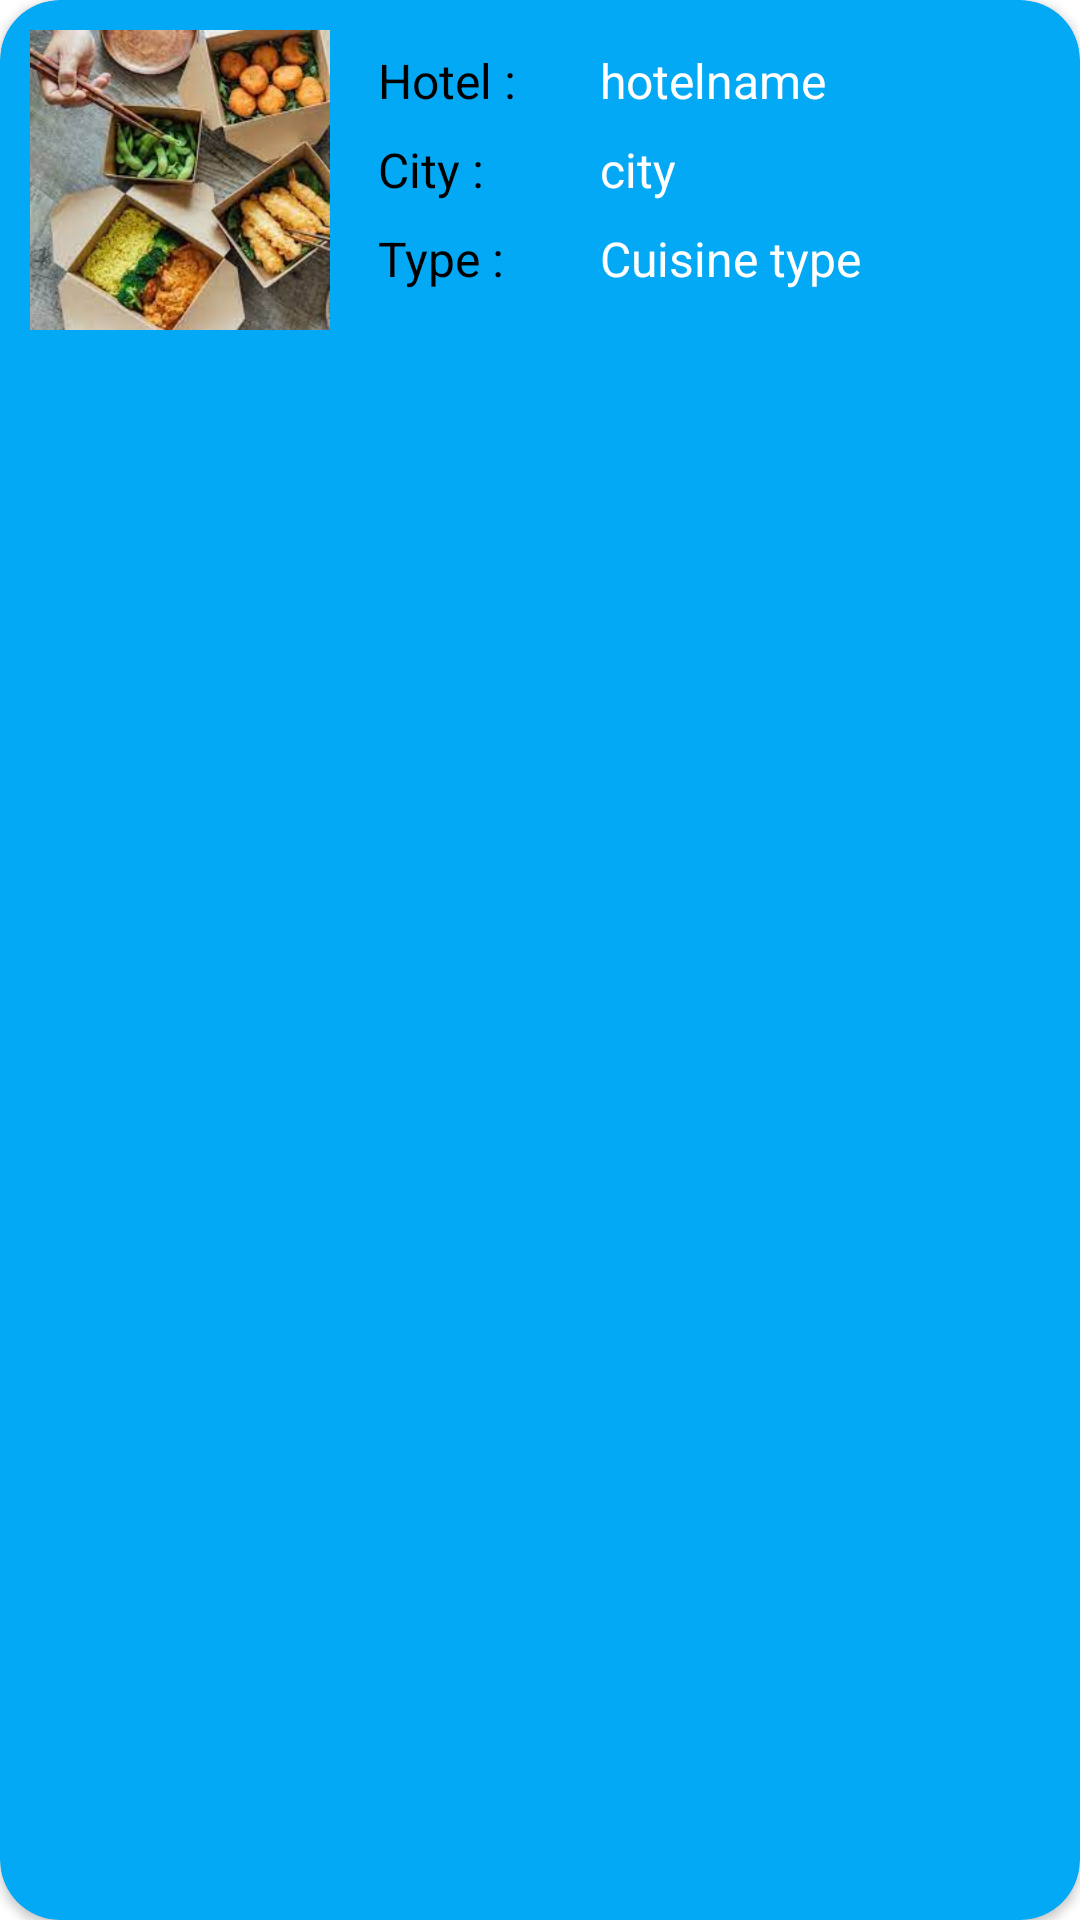

Icons on this 1080*1920 Android screen, each with the point to tap as (x,y):
takeout meal: (180,180)
